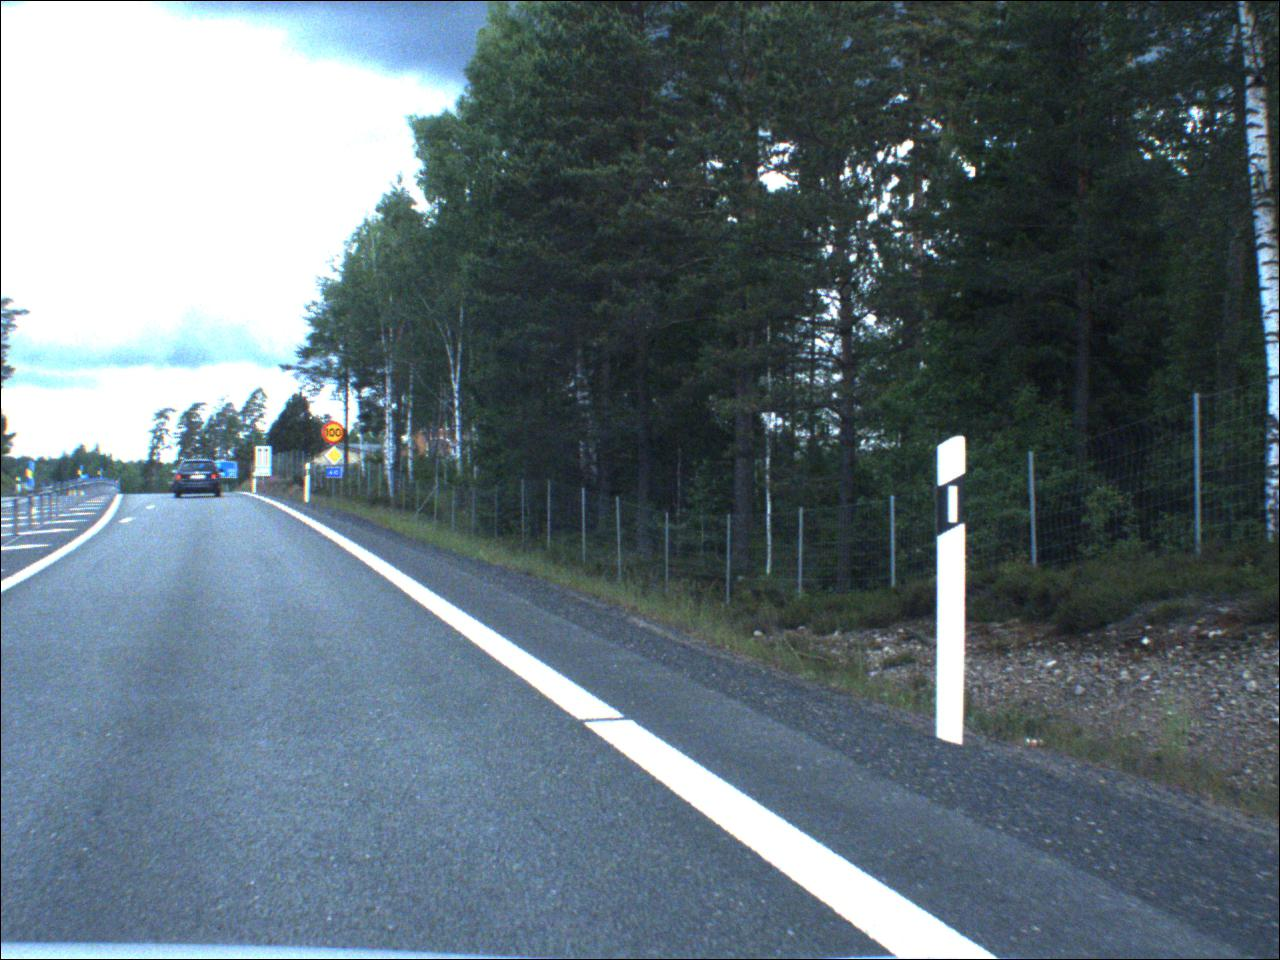100_SIGN: (325, 422, 348, 447)
PRIORITY_ROAD: (327, 447, 346, 468)
